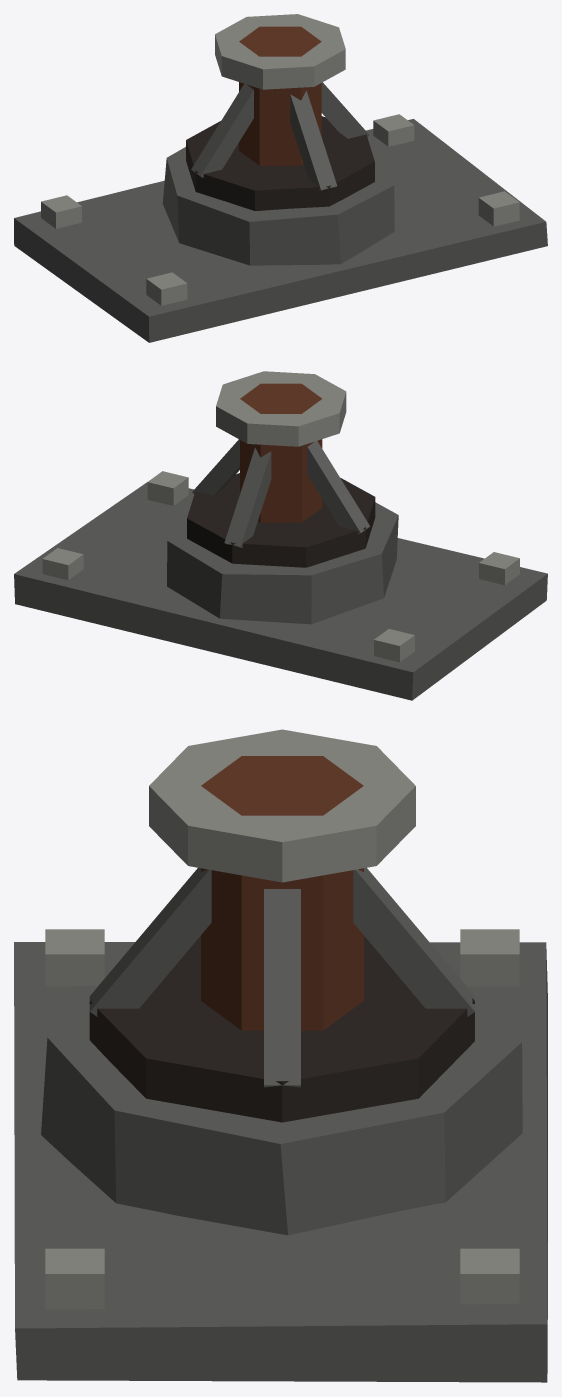
File: wmount_ring_small.glb
The picture shows the model from 3 angles, top to bottom: view 1: azimuth 30°, elevation 25°; view 2: azimuth 150°, elevation 25°; view 3: azimuth 270°, elevation 25°; orthographic projection. The views are drawn at different scales.
Visible parts, largest first — view 1: wmount_ring_small; view 2: wmount_ring_small; view 3: wmount_ring_small.
Boxes of the visible parts, x1,y1,x2,y2 form: wmount_ring_small: (14, 14, 547, 342); wmount_ring_small: (14, 371, 547, 700); wmount_ring_small: (14, 729, 547, 1382).
Bounding box in the file's own units: 0.614 × 0.3012 × 0.3602.
